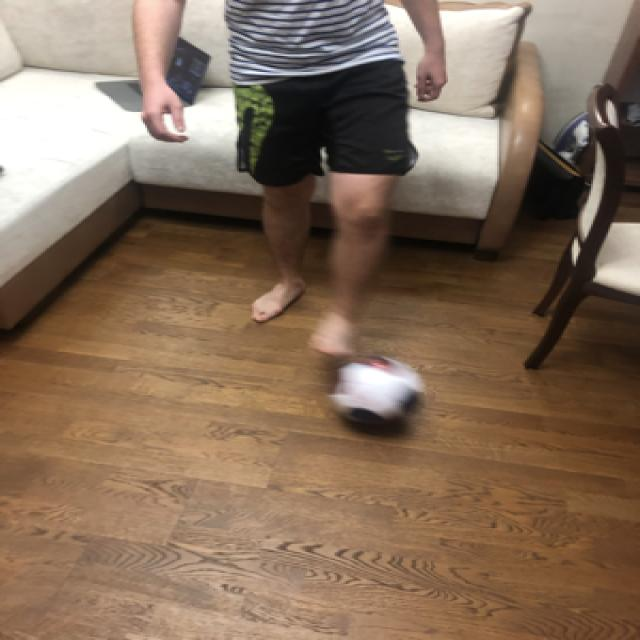soccer_ball: (320, 352, 422, 430)
